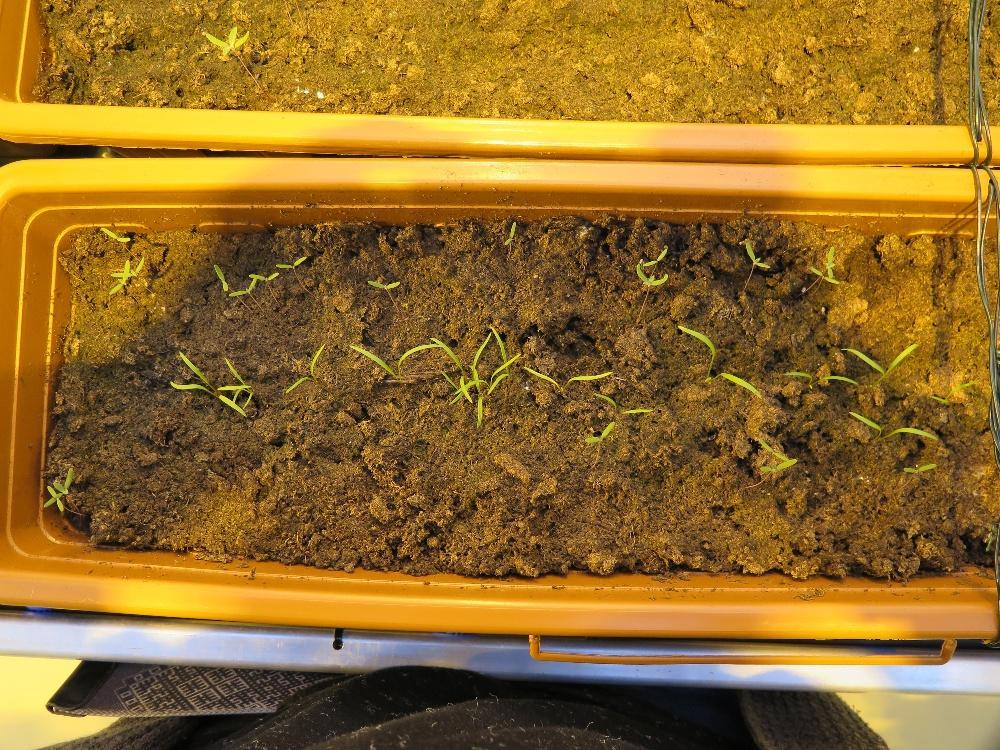weed: (200, 21, 250, 58), (742, 238, 770, 270), (581, 419, 615, 444), (900, 459, 938, 475), (98, 224, 129, 242), (273, 253, 306, 268), (364, 278, 401, 289), (502, 218, 515, 246)
